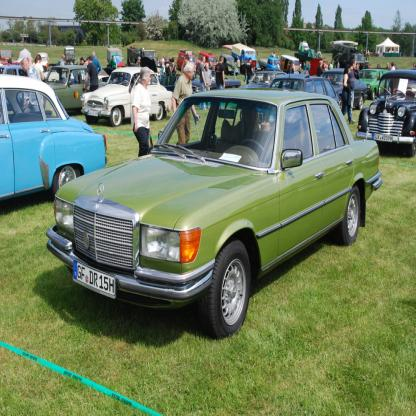Car: (47, 91, 384, 340), (1, 73, 108, 201), (82, 67, 175, 128), (357, 70, 416, 157), (269, 69, 341, 125), (45, 66, 110, 113), (240, 71, 288, 92), (361, 70, 391, 102)
